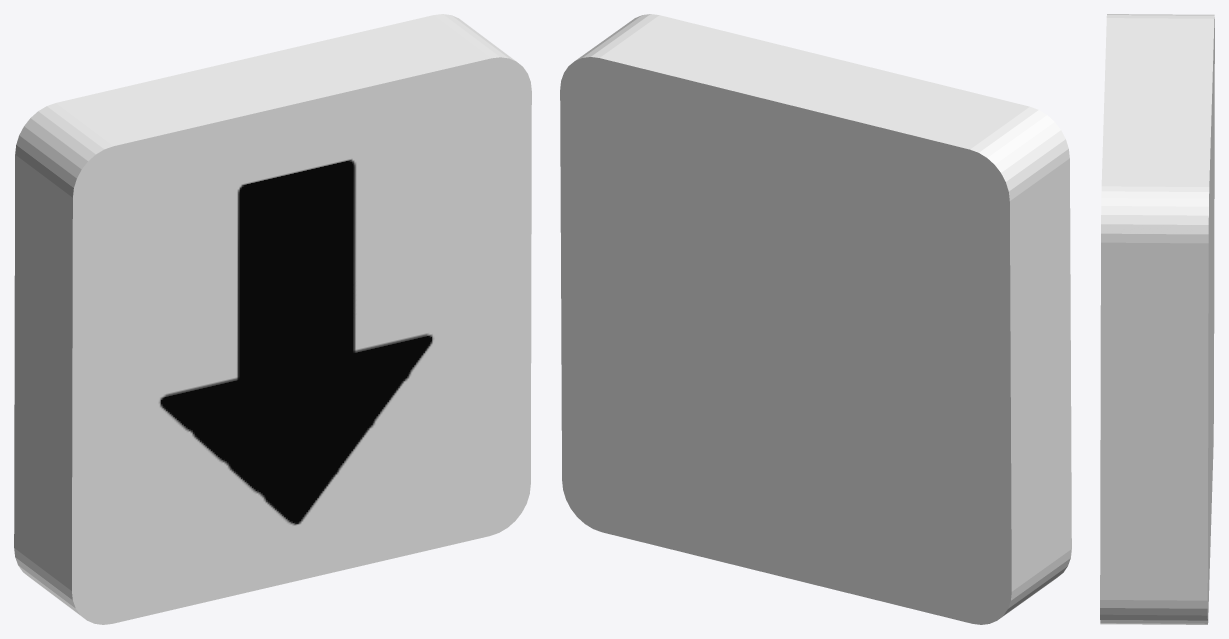
Rendered from BtnArrowDown.obj.
3 renders of one model, left to right at view 1: azimuth 30°, elevation 25°; view 2: azimuth 150°, elevation 25°; view 3: azimuth 270°, elevation 25°, orthographic. The views are drawn at different scales.
Size of the model in its own units: 5.39 by 5.38 by 1.28.
Materials: 1 (1 with a texture image).
